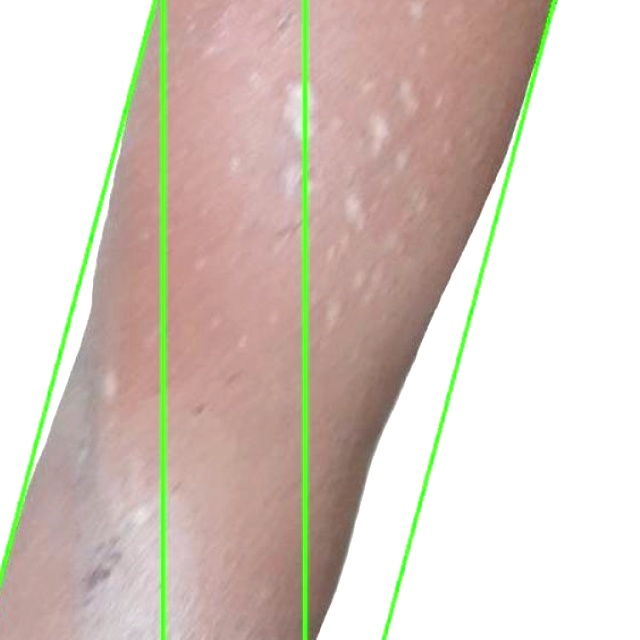Scabies: (0, 0, 555, 639), (304, 0, 639, 639), (0, 0, 163, 639)
